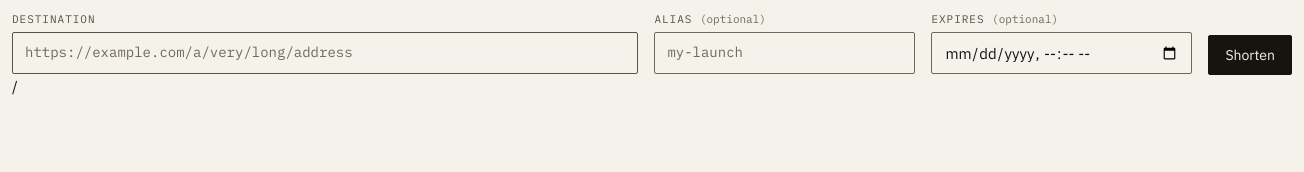
Test: LinkComposer › says so when the server cannot be reached
The width and height of the screenshot is (1304, 172).
Step 1. Type "https://example.com" into the field labelled "Destination" → {"x": 325, "y": 53}, box x1=12 y1=32 x2=638 y2=74
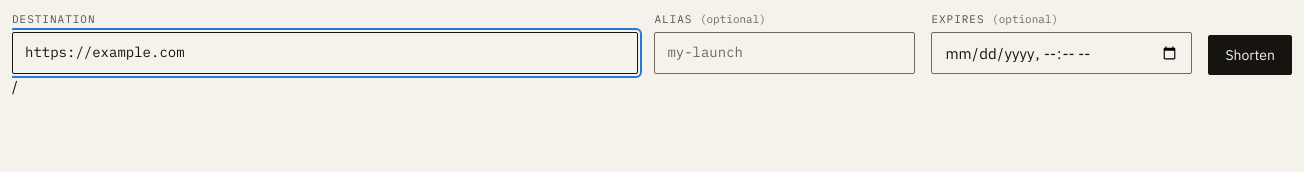
Step 2. Click the button "Shorten" → {"x": 1250, "y": 55}, box x1=1208 y1=35 x2=1292 y2=75
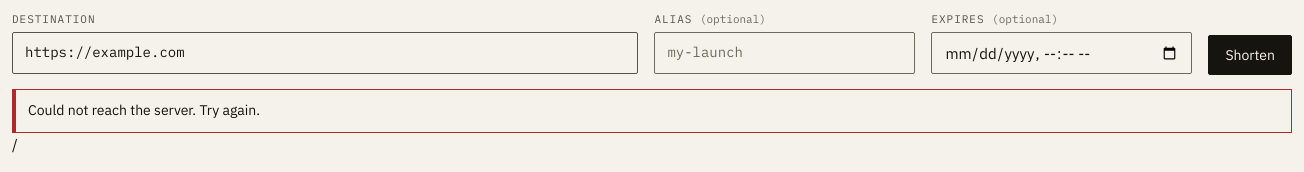
expect the message shows "Could not reach the server": met, box x1=28 y1=101 x2=260 y2=119
